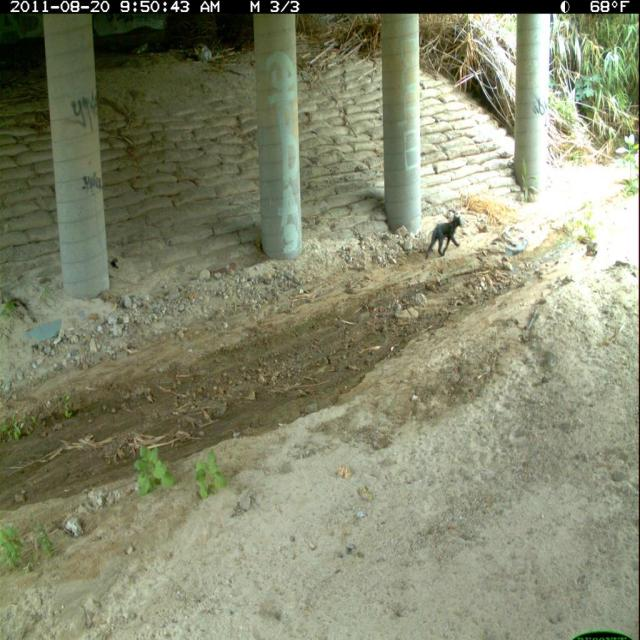cat: (423, 210, 466, 263)
